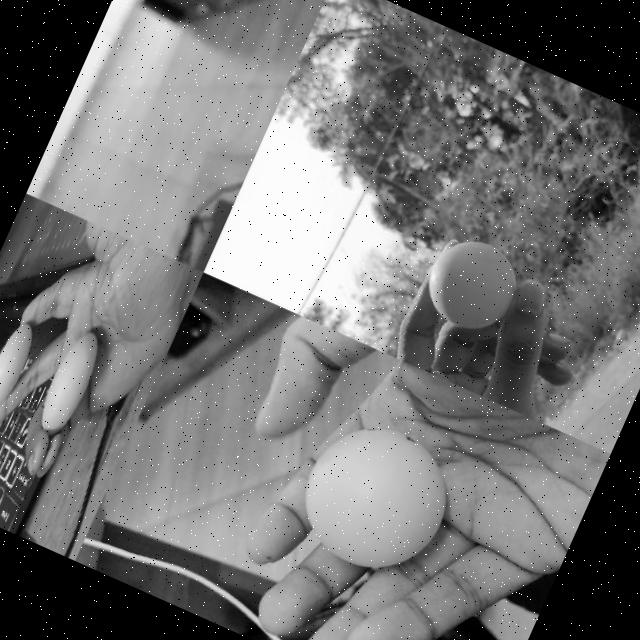ping-pong-ball: (286, 404, 468, 586), (415, 224, 530, 338), (31, 324, 108, 440), (0, 316, 40, 412)
